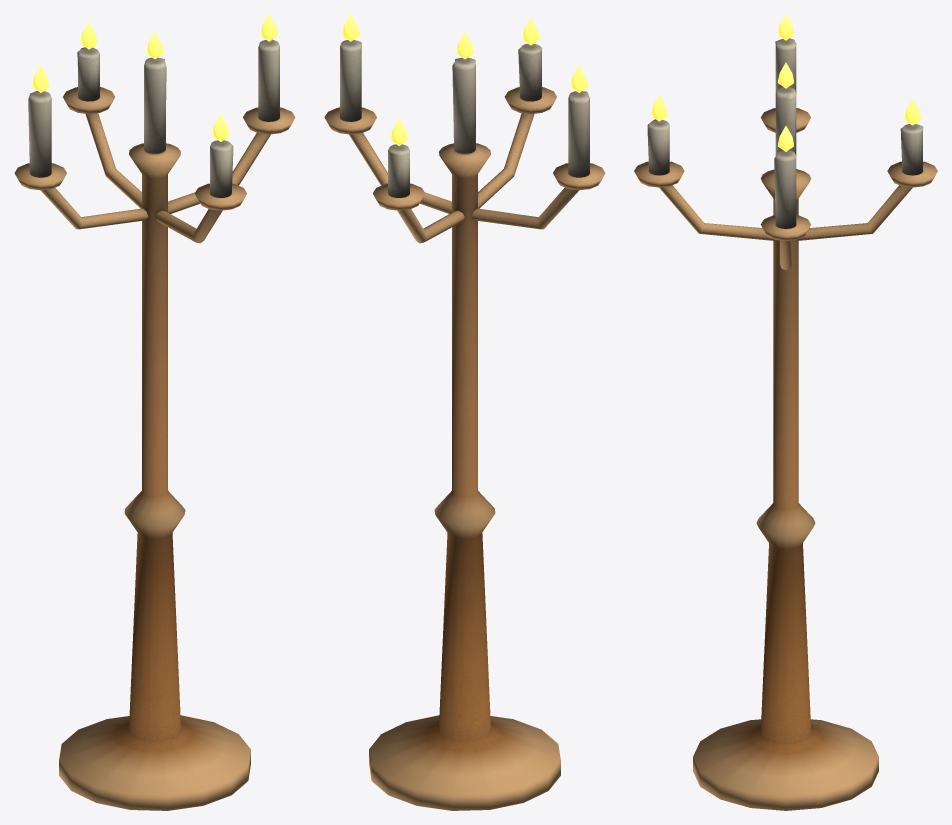
Rendered from dg_candelabro.glb.
3 renders of one model, left to right at view 1: azimuth 30°, elevation 25°; view 2: azimuth 150°, elevation 25°; view 3: azimuth 270°, elevation 25°, orthographic. The views are drawn at different scales.
Visible parts, largest first — view 1: dg_candelabro_tronco; view 2: dg_candelabro_tronco; view 3: dg_candelabro_tronco.
Part boxes in pixels (x1=…): dg_candelabro_tronco: x1=14, y1=39, x2=295, y2=810; dg_candelabro_tronco: x1=324, y1=40, x2=605, y2=810; dg_candelabro_tronco: x1=634, y1=38, x2=937, y2=810.
Size of the model in its own units: 0.72 by 1.86 by 0.72.
6 materials, 1 textured.
